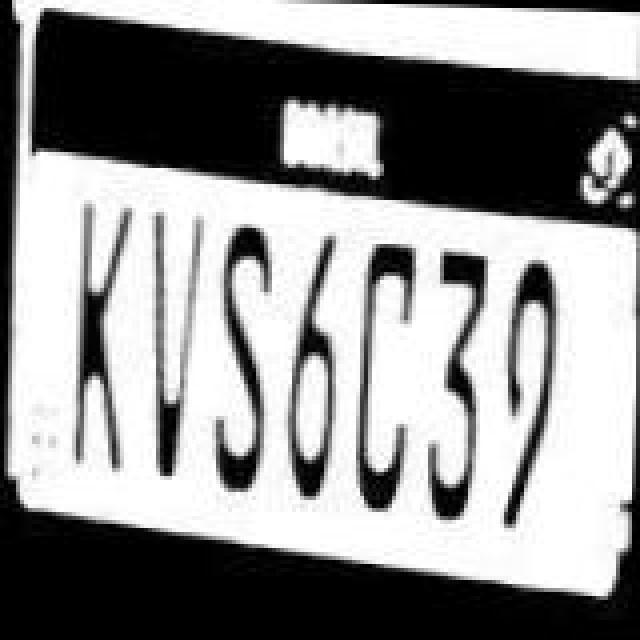3: (420, 214, 500, 530)
6: (274, 212, 358, 524)
9: (492, 220, 572, 532)
C: (344, 212, 424, 528)
K: (56, 196, 144, 508)
S: (198, 212, 282, 520)
V: (136, 212, 208, 512)
